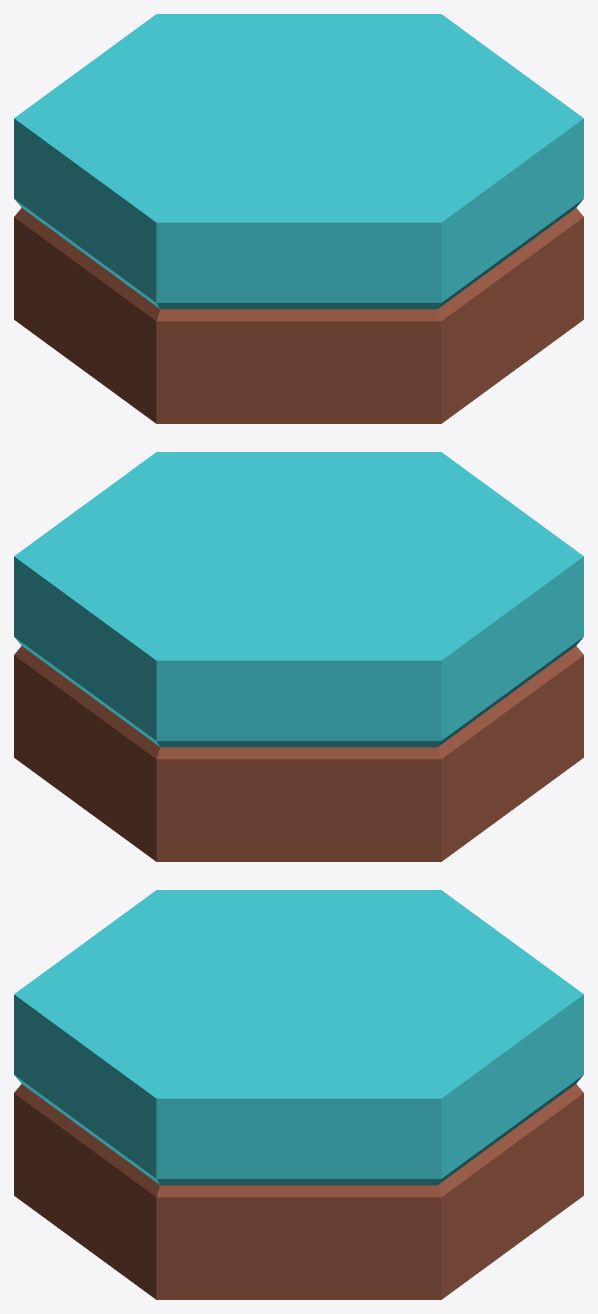
File: hex_water_detail.glb
The picture shows the model from 3 angles, top to bottom: view 1: azimuth 30°, elevation 25°; view 2: azimuth 150°, elevation 25°; view 3: azimuth 270°, elevation 25°; orthographic projection.
Parts seen in each view (by area): view 1: hex_water_detail; view 2: hex_water_detail; view 3: hex_water_detail.
Part boxes in pixels (box(x1,y1,x2,y2)): hex_water_detail: box(14, 14, 583, 423); hex_water_detail: box(14, 452, 583, 861); hex_water_detail: box(14, 890, 583, 1299).
Size of the model in its own units: 3.82 by 1.72 by 4.41.
